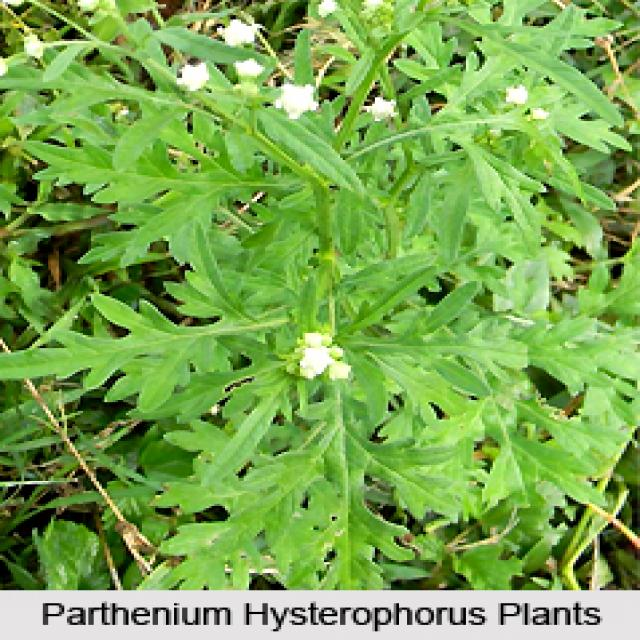Poisonous-Parthenium: (136, 21, 582, 431)
